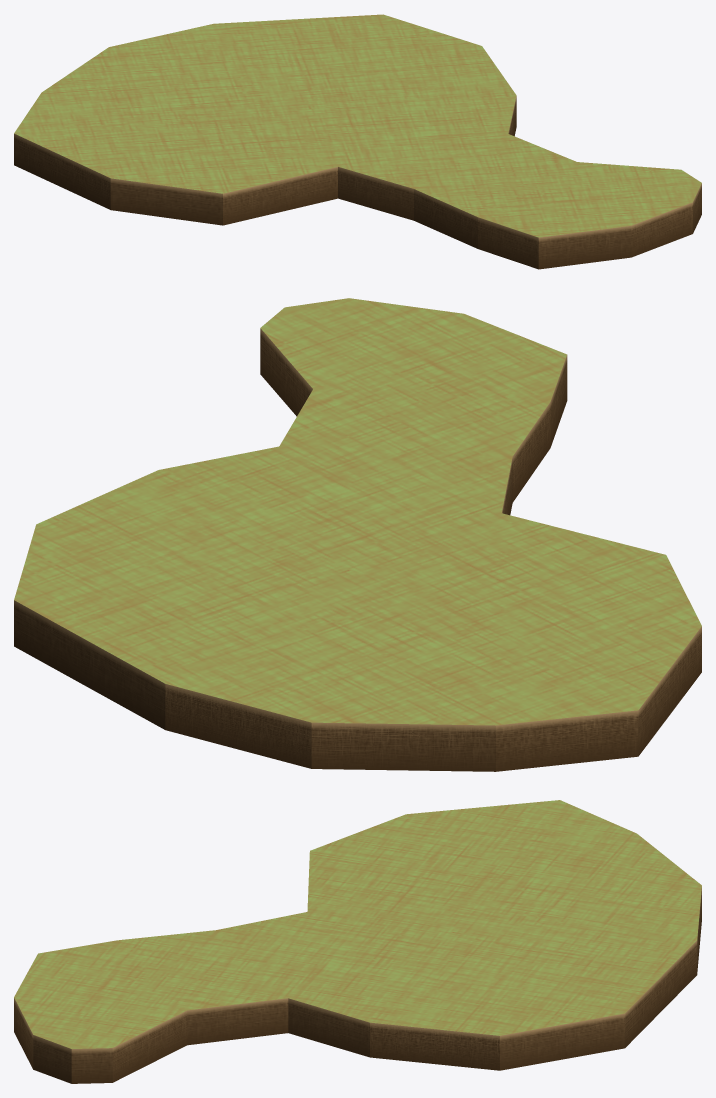
The model's file is Terrain04_D.FBX.
The picture shows the model from 3 angles, top to bottom: view 1: azimuth 30°, elevation 25°; view 2: azimuth 150°, elevation 25°; view 3: azimuth 270°, elevation 25°; orthographic projection. The views are drawn at different scales.
Parts seen in each view (by area): view 1: Terrain04_D; view 2: Terrain04_D; view 3: Terrain04_D.
Part boxes in pixels (x1,y1,x2,y2): Terrain04_D: (14, 14, 701, 269); Terrain04_D: (14, 298, 701, 771); Terrain04_D: (14, 800, 701, 1083).
Size of the model in its own units: 765 by 49.97 by 893.
Materials: 1 (1 with a texture image).
